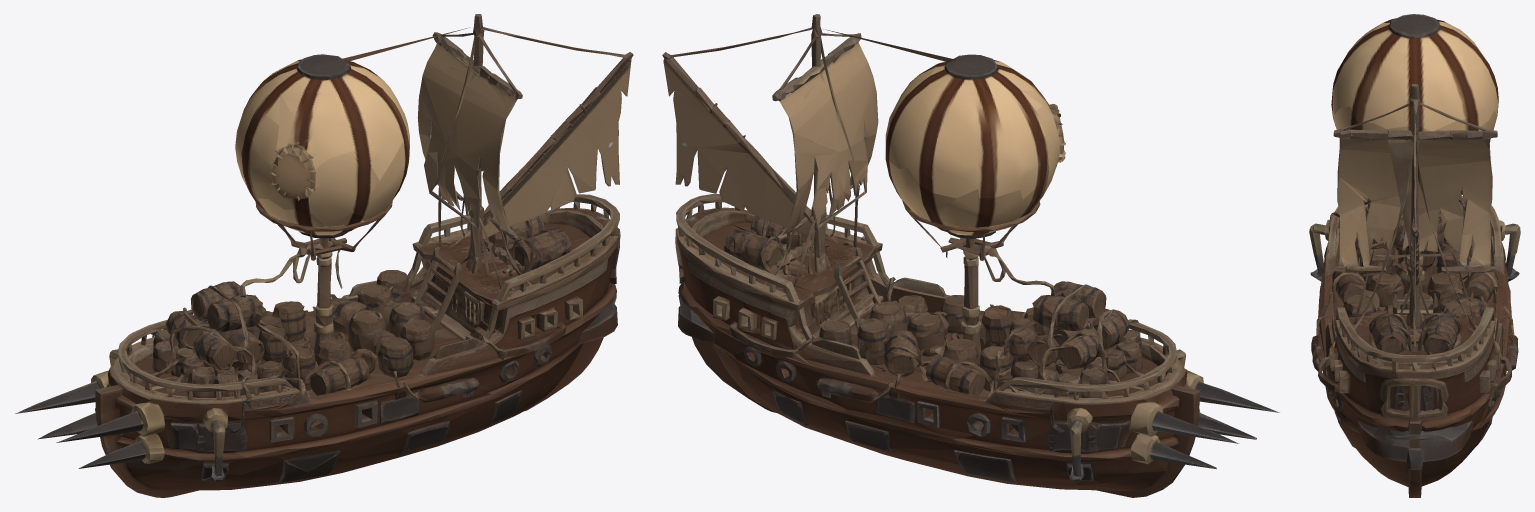
The picture shows the model from 3 angles, left to right: view 1: azimuth 30°, elevation 25°; view 2: azimuth 150°, elevation 25°; view 3: azimuth 270°, elevation 25°; orthographic projection. The views are drawn at different scales.
Parts seen in each view (by area): view 1: Mesh_0; view 2: Mesh_0; view 3: Mesh_0.
Part boxes in pixels (left/top/right/bottom): Mesh_0: left=15, top=14, right=633, bottom=497; Mesh_0: left=662, top=14, right=1279, bottom=497; Mesh_0: left=1309, top=14, right=1520, bottom=497.
Size of the model in its own units: 1.9 by 1.23 by 0.607.
Materials: 1 (1 with a texture image).
